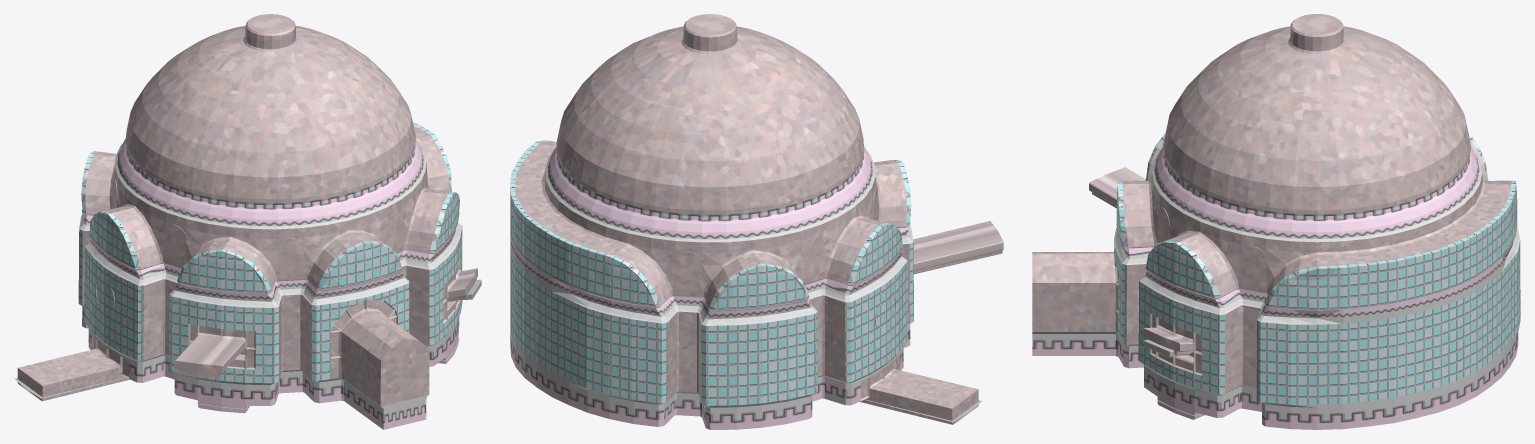
Rendered from AstroDomeWell_bake.dae.
The picture shows the model from 3 angles, left to right: view 1: azimuth 30°, elevation 25°; view 2: azimuth 150°, elevation 25°; view 3: azimuth 270°, elevation 25°; orthographic projection. The views are drawn at different scales.
Parts seen in each view (by area): view 1: m0, m1, m3; view 2: m0, m3, m1; view 3: m0, m3, m1.
Boxes of the visible parts, bbox=[...] form: m0: bbox=[17, 14, 477, 411]; m1: bbox=[79, 138, 461, 429]; m3: bbox=[78, 122, 462, 383]; m0: bbox=[515, 14, 1003, 424]; m3: bbox=[510, 140, 913, 405]; m1: bbox=[510, 146, 913, 429]; m0: bbox=[1032, 14, 1511, 419]; m3: bbox=[1114, 133, 1520, 404]; m1: bbox=[1032, 147, 1519, 429].
Size of the model in its own units: 2242 by 1624 by 2187.
